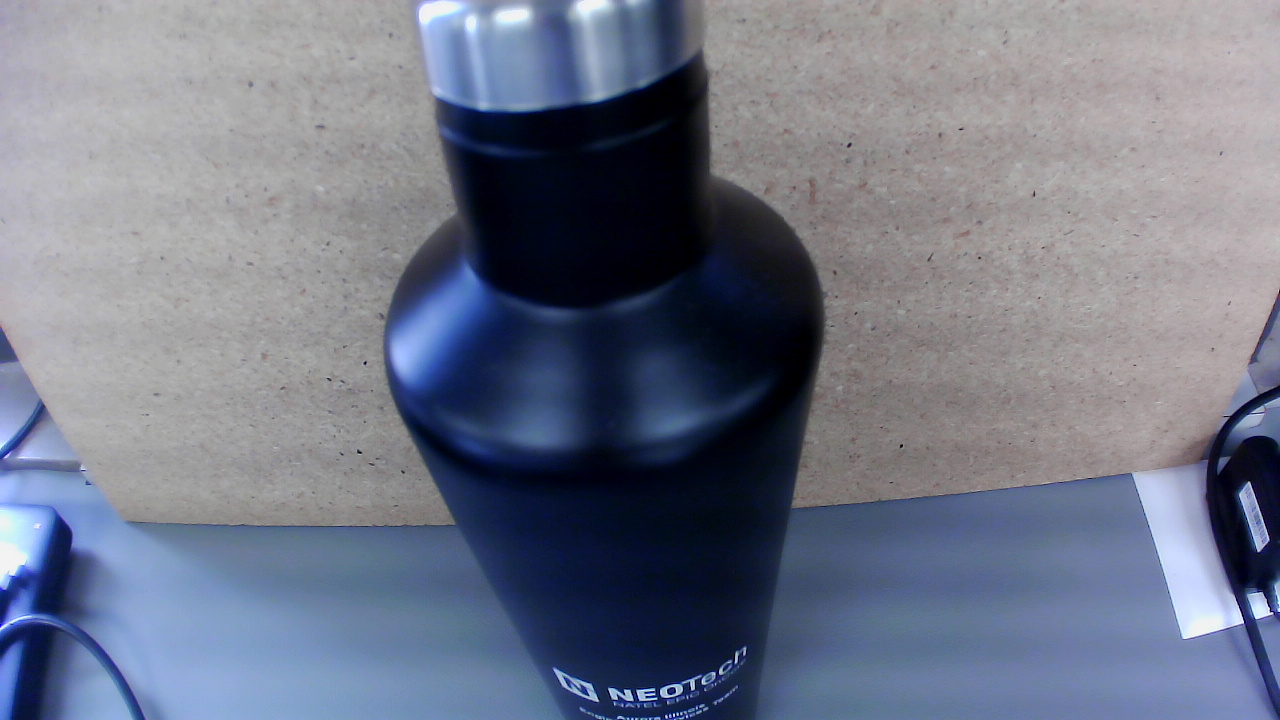neobottle: (360, 2, 836, 720)
